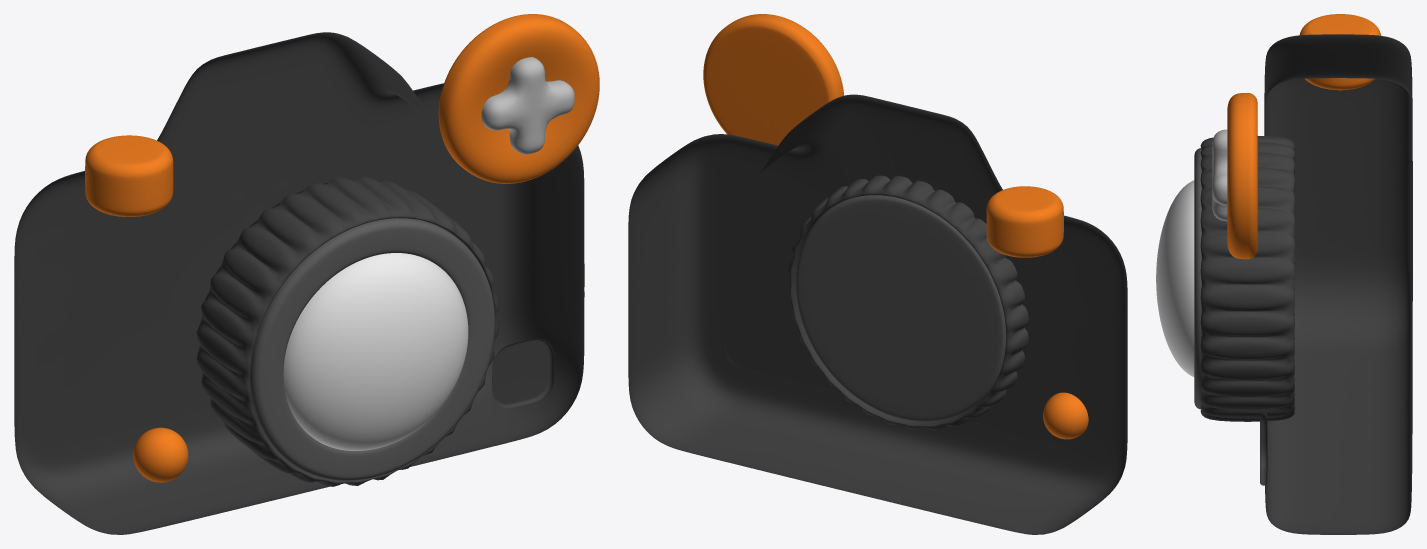
The model's file is add-photo-animated-3d-icon-217930551481.glb.
The picture shows the model from 3 angles, left to right: view 1: azimuth 30°, elevation 25°; view 2: azimuth 150°, elevation 25°; view 3: azimuth 270°, elevation 25°; orthographic projection. The views are drawn at different scales.
Visible parts, largest first — view 1: Body, Body Lens, Glass, Circle.003, Shutter, Add Icon, Label, Indicator; view 2: Body, Body Lens, Circle.003, Shutter, Indicator; view 3: Body, Body Lens, Glass, Circle.003, Shutter, Add Icon, Label.
Boxes of the visible parts, bbox=[...] form: Body: bbox=[14, 32, 584, 534]; Body Lens: bbox=[196, 176, 499, 486]; Glass: bbox=[283, 253, 468, 450]; Circle.003: bbox=[438, 14, 599, 183]; Shutter: bbox=[85, 135, 173, 216]; Add Icon: bbox=[481, 57, 574, 154]; Label: bbox=[492, 338, 554, 408]; Indicator: bbox=[133, 427, 188, 482]; Body: bbox=[628, 94, 1127, 534]; Body Lens: bbox=[788, 175, 1028, 430]; Circle.003: bbox=[703, 14, 843, 145]; Shutter: bbox=[986, 186, 1063, 257]; Indicator: bbox=[1043, 392, 1088, 439]; Body: bbox=[1264, 34, 1412, 534]; Body Lens: bbox=[1194, 136, 1295, 421]; Glass: bbox=[1156, 180, 1194, 376]; Circle.003: bbox=[1227, 93, 1257, 259]; Shutter: bbox=[1299, 14, 1380, 90]; Add Icon: bbox=[1212, 129, 1227, 221]; Label: bbox=[1260, 413, 1267, 485].
Size of the model in its own units: 2.48 by 2.04 by 1.14.
